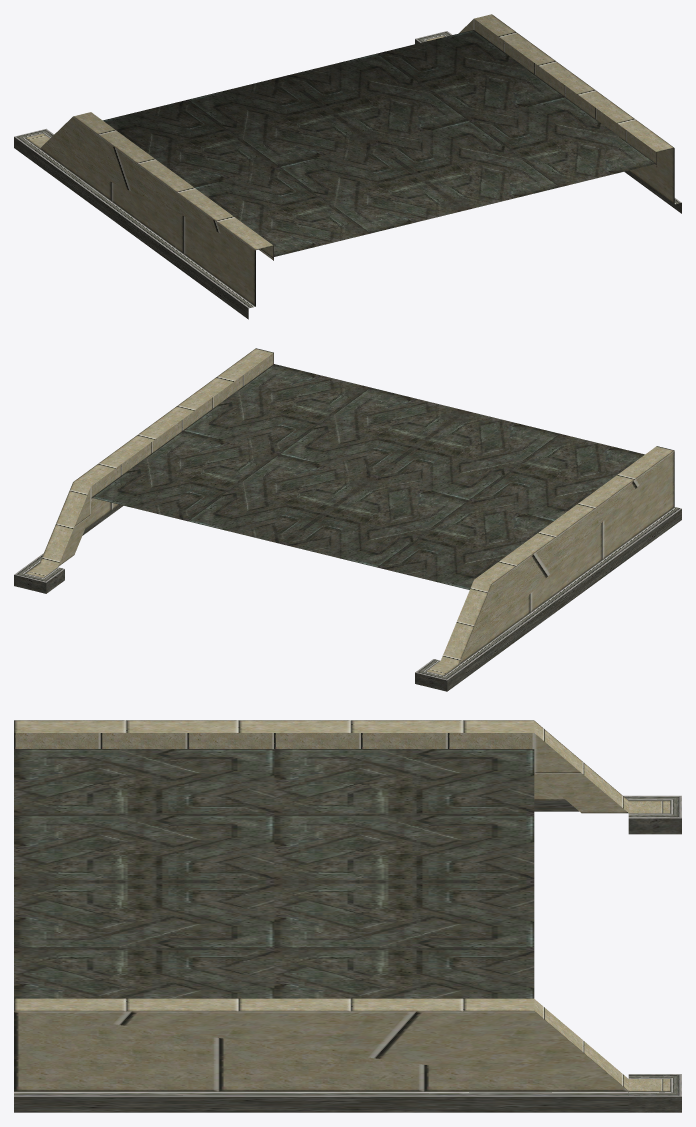
File: DWARF_PALACE_FORGE_GET_ON01.fbx
3 views of the same model, one above another, from view 1: azimuth 30°, elevation 25°; view 2: azimuth 150°, elevation 25°; view 3: azimuth 270°, elevation 25° (orthographic). The views are drawn at different scales.
Visible parts, largest first — view 1: DWARF_PALACE_FORGE_GET_ON01; view 2: DWARF_PALACE_FORGE_GET_ON01; view 3: DWARF_PALACE_FORGE_GET_ON01.
Part boxes in pixels (bbox=[...]): DWARF_PALACE_FORGE_GET_ON01: bbox=[14, 14, 681, 319]; DWARF_PALACE_FORGE_GET_ON01: bbox=[14, 348, 681, 691]; DWARF_PALACE_FORGE_GET_ON01: bbox=[14, 720, 681, 1112].
Size of the model in its own units: 120426 by 18000 by 113028.
Materials: 4 (4 with a texture image).
